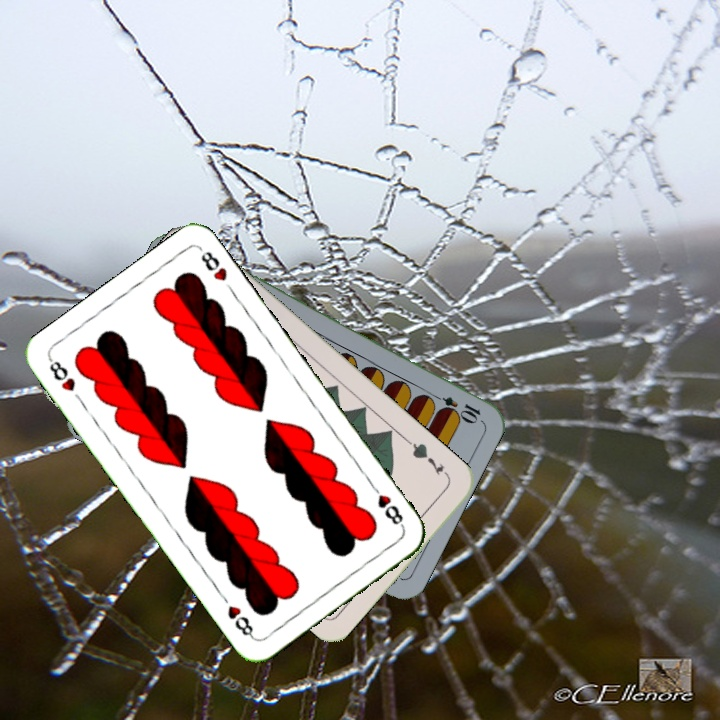E10: (426, 389, 483, 424)
G7: (403, 437, 452, 481)
H8: (366, 479, 407, 530), (45, 355, 78, 395)
